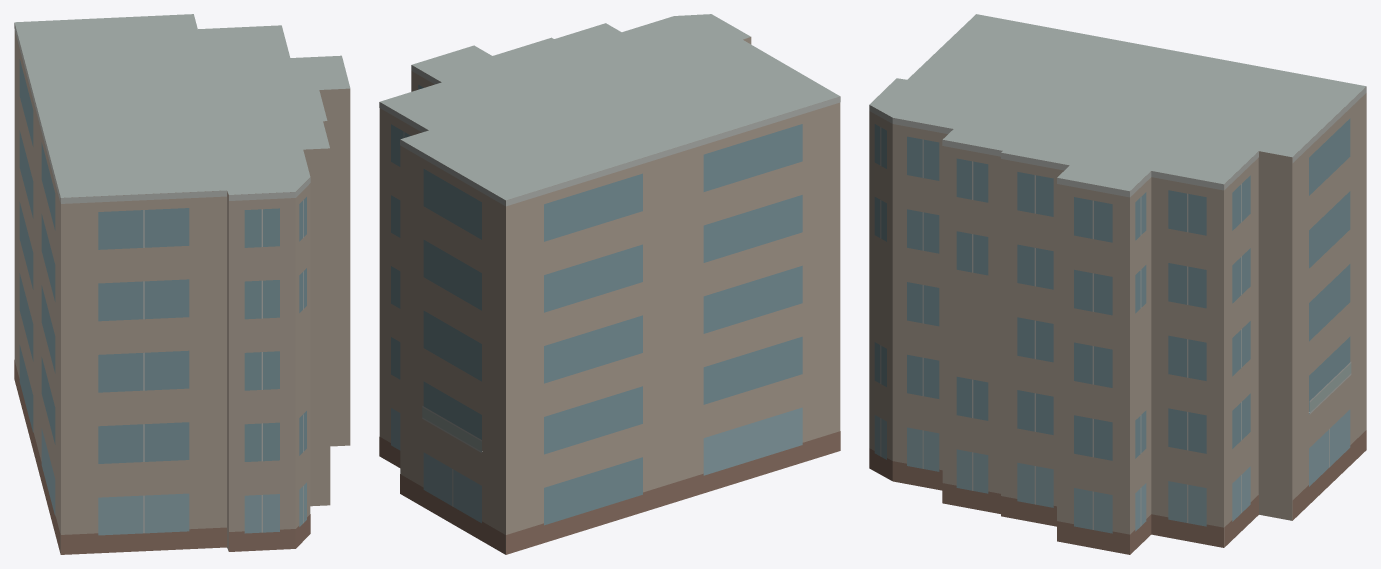
The model's file is survey-upis-32928336.glb.
3 renders of one model, left to right at view 1: azimuth 30°, elevation 25°; view 2: azimuth 150°, elevation 25°; view 3: azimuth 270°, elevation 25°, orthographic. The views are drawn at different scales.
Parts seen in each view (by area): view 1: survey-upis-32928336.tmp; view 2: survey-upis-32928336.tmp; view 3: survey-upis-32928336.tmp.
Boxes of the visible parts, <box> form: survey-upis-32928336.tmp: <box>14,14,350,554</box>; survey-upis-32928336.tmp: <box>379,14,840,554</box>; survey-upis-32928336.tmp: <box>869,14,1366,554</box>.
Size of the model in its own units: 14.96 by 14.3 by 17.74.
